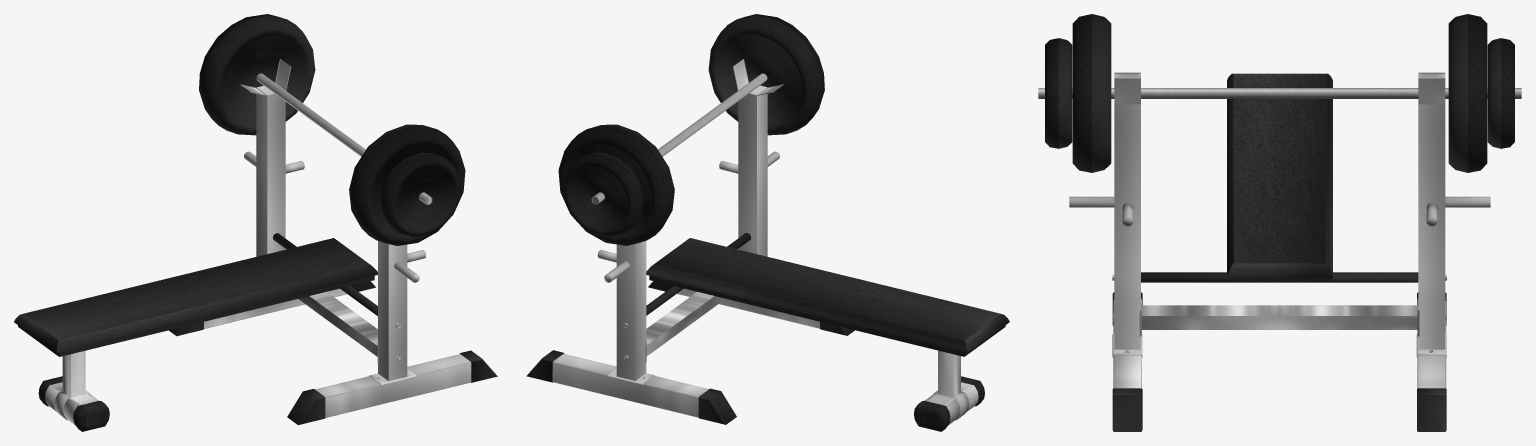
Rendered from weight_bench.glb.
3 views of the same model, side by side, from view 1: azimuth 30°, elevation 25°; view 2: azimuth 150°, elevation 25°; view 3: azimuth 270°, elevation 25° (orthographic). The views are drawn at different scales.
Parts seen in each view (by area): view 1: Cube.001; view 2: Cube.001; view 3: Cube.001.
Boxes of the visible parts, bbox=[...] form: Cube.001: bbox=[14, 14, 497, 431]; Cube.001: bbox=[526, 14, 1009, 431]; Cube.001: bbox=[1038, 14, 1521, 431].
Size of the model in its own units: 1.78 by 1.2 by 1.5.
5 materials, 5 textured.
